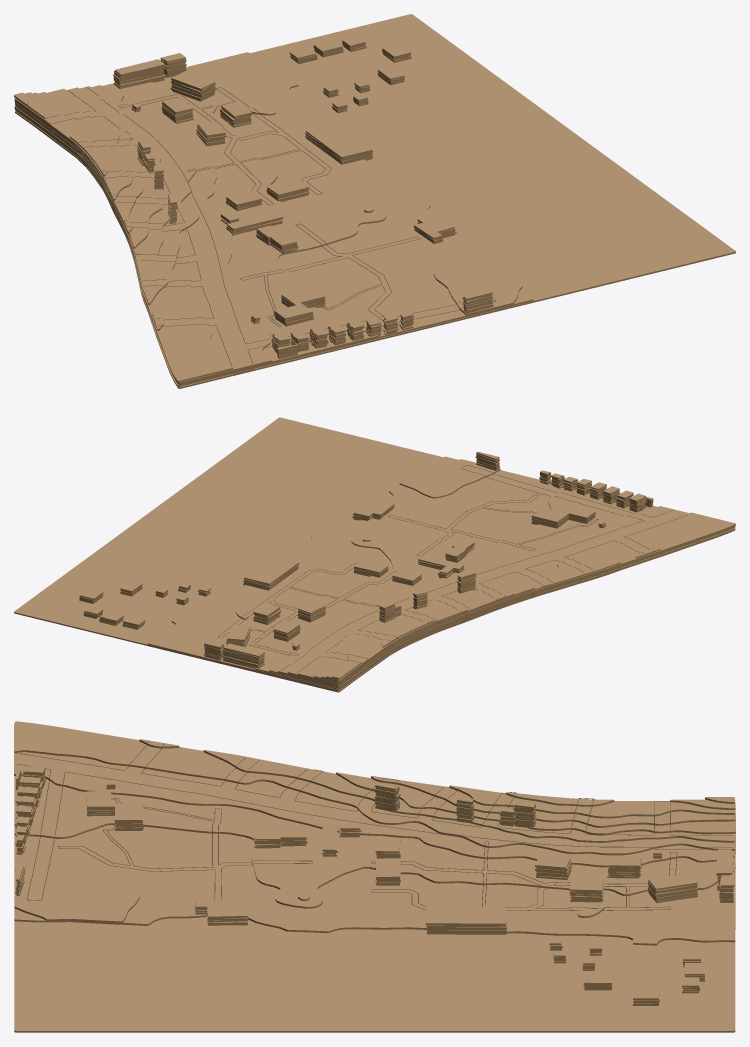
File: longevity-karton.glb
3 renders of one model, top to bottom at view 1: azimuth 30°, elevation 25°; view 2: azimuth 150°, elevation 25°; view 3: azimuth 270°, elevation 25°, orthographic. The views are drawn at different scales.
Parts seen in each view (by area): view 1: maket_katman_00, maket_katman_01, maket_katman_02, maket_katman_03, maket_katman_04, maket_kazima, maket_katman_05, maket_katman_06, maket_katman_07, maket_katman_08, maket_plaka_19_04, maket_plaka_21_04 (+2 smaller); view 2: maket_katman_00, maket_katman_01, maket_katman_02, maket_katman_03, maket_katman_04, maket_kazima, maket_katman_05, maket_katman_06, maket_katman_07, maket_katman_08, maket_plaka_19_04, maket_plaka_21_04 (+1 smaller); view 3: maket_katman_00, maket_katman_01, maket_katman_02, maket_katman_03, maket_katman_04, maket_katman_05, maket_kazima, maket_katman_06, maket_katman_08, maket_katman_07, maket_plaka_19_04, maket_katman_09 (+4 smaller).
Boxes of the visible parts, x1,y1,x2,y2 form: maket_katman_00: (15, 14, 735, 388); maket_katman_01: (15, 45, 533, 386); maket_katman_02: (14, 82, 522, 385); maket_katman_03: (14, 85, 373, 383); maket_katman_04: (15, 86, 233, 382); maket_kazima: (43, 87, 495, 374); maket_katman_05: (15, 87, 169, 330); maket_katman_06: (15, 88, 162, 248); maket_katman_07: (14, 92, 143, 233); maket_katman_08: (14, 92, 132, 200); maket_plaka_19_04: (306, 123, 372, 158); maket_plaka_21_04: (274, 287, 325, 319); maket_katman_00: (14, 417, 734, 692); maket_katman_01: (79, 456, 735, 691); maket_katman_02: (235, 459, 735, 689); maket_katman_03: (244, 506, 735, 688); maket_katman_04: (278, 512, 735, 686); maket_kazima: (218, 465, 690, 672); maket_katman_05: (287, 548, 660, 685); maket_katman_06: (298, 587, 534, 684); maket_katman_07: (314, 593, 514, 683); maket_katman_08: (321, 609, 467, 681); maket_plaka_19_04: (244, 556, 299, 584); maket_plaka_21_04: (531, 506, 595, 522); maket_katman_00: (14, 801, 735, 1032); maket_katman_01: (14, 815, 735, 1005); maket_katman_02: (14, 775, 735, 922); maket_katman_03: (14, 724, 734, 901); maket_katman_04: (14, 721, 734, 855); maket_katman_05: (139, 739, 734, 842); maket_kazima: (16, 741, 732, 910); maket_katman_06: (336, 772, 735, 835); maket_katman_08: (449, 785, 735, 818); maket_katman_07: (371, 776, 735, 827); maket_plaka_19_04: (425, 906, 505, 925); maket_katman_09: (506, 792, 735, 809).
Size of the model in its own units: 0.359 by 0.018 by 0.3624.
